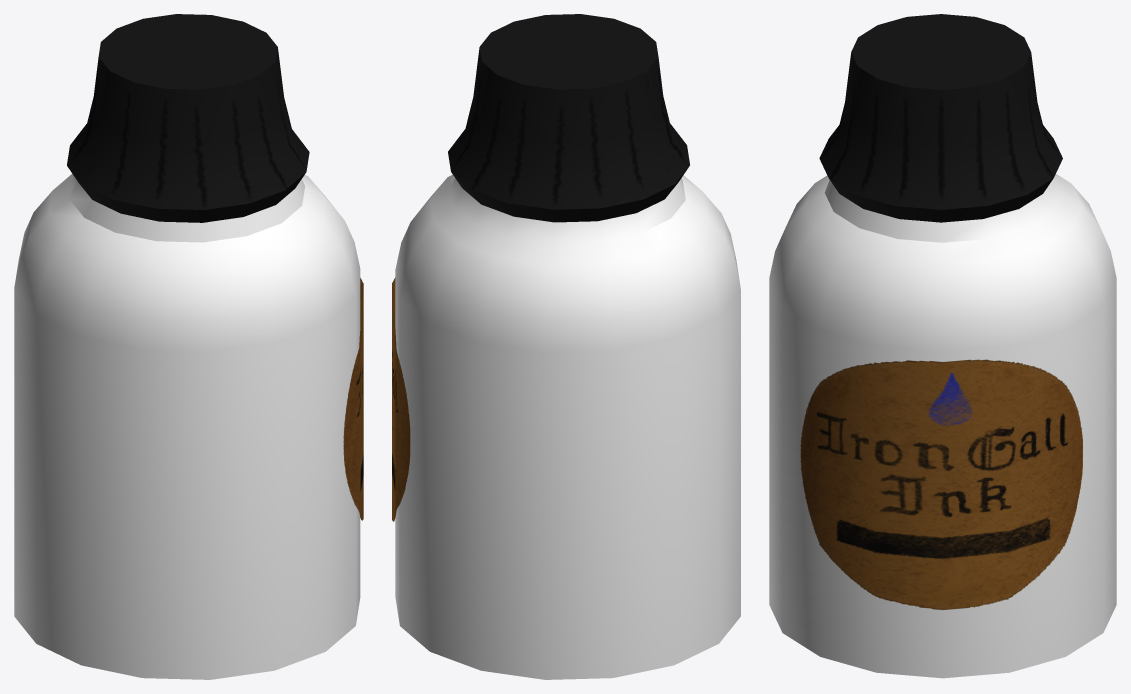
Rendered from inkwell.glb.
3 views of the same model, side by side, from view 1: azimuth 30°, elevation 25°; view 2: azimuth 150°, elevation 25°; view 3: azimuth 270°, elevation 25° (orthographic).
Parts seen in each view (by area): view 1: Glass, Cap, Sticker; view 2: Glass, Cap, Sticker; view 3: Glass, Sticker, Cap.
Part boxes in pixels (left/top/right/bottom): Glass: left=14, top=174, right=360, bottom=679; Cap: left=67, top=14, right=309, bottom=222; Sticker: left=343, top=278, right=363, bottom=520; Glass: left=395, top=174, right=740, bottom=679; Cap: left=448, top=14, right=689, bottom=222; Sticker: left=392, top=277, right=410, bottom=521; Glass: left=769, top=174, right=1116, bottom=678; Sticker: left=800, top=359, right=1082, bottom=609; Cap: left=819, top=14, right=1062, bottom=222.
Size of the model in its own units: 0.1746 by 0.3033 by 0.1727.
4 materials, 2 textured.
